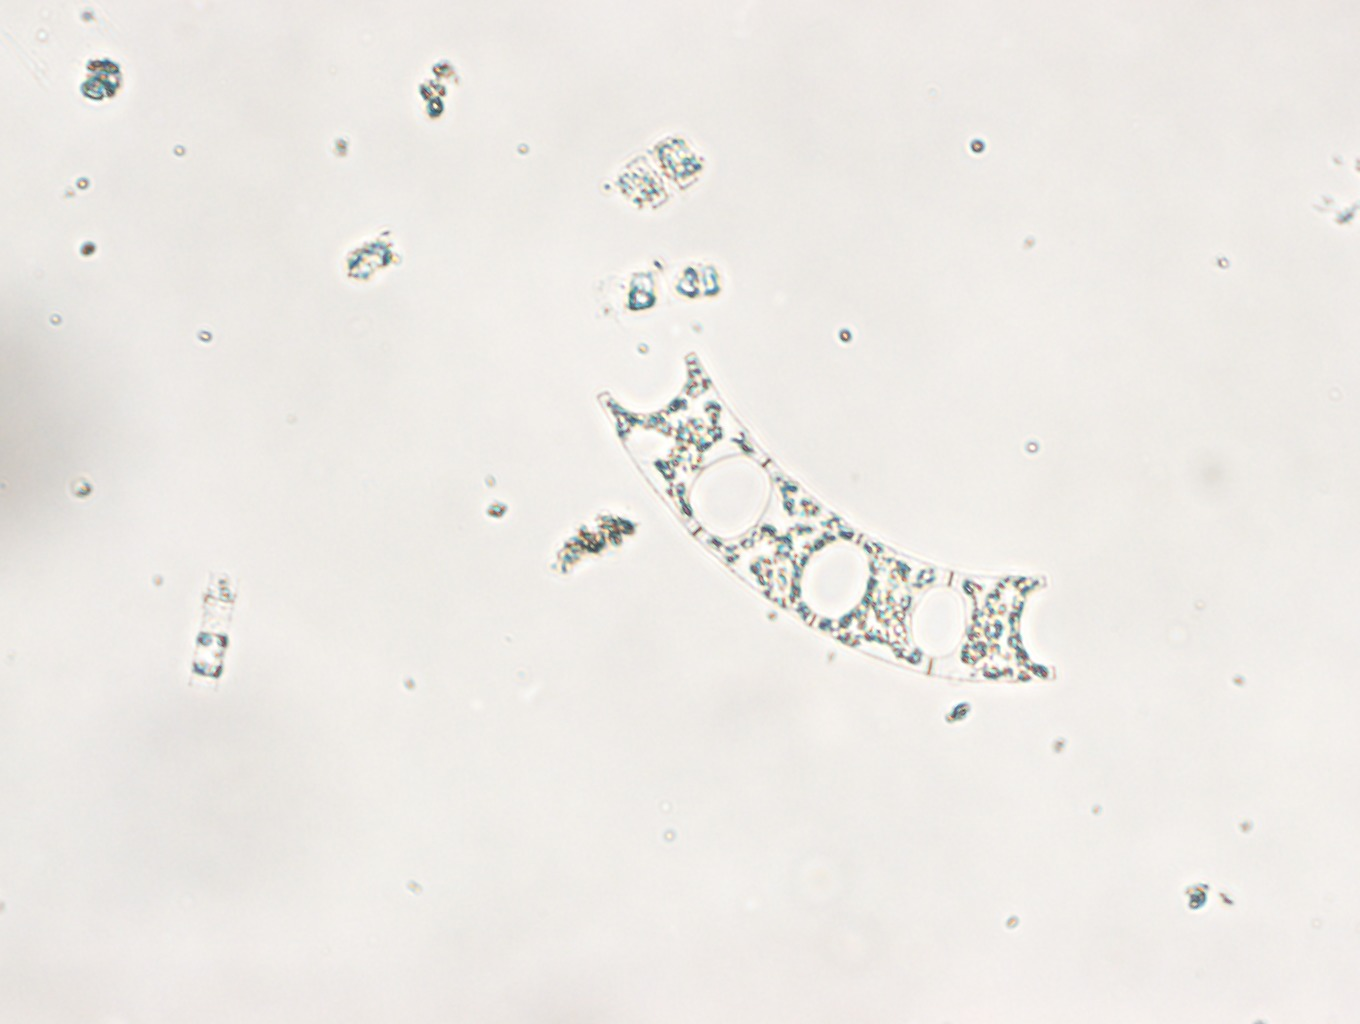eucampia: (595, 347, 1058, 689)
skeletonema: (191, 569, 241, 686)
